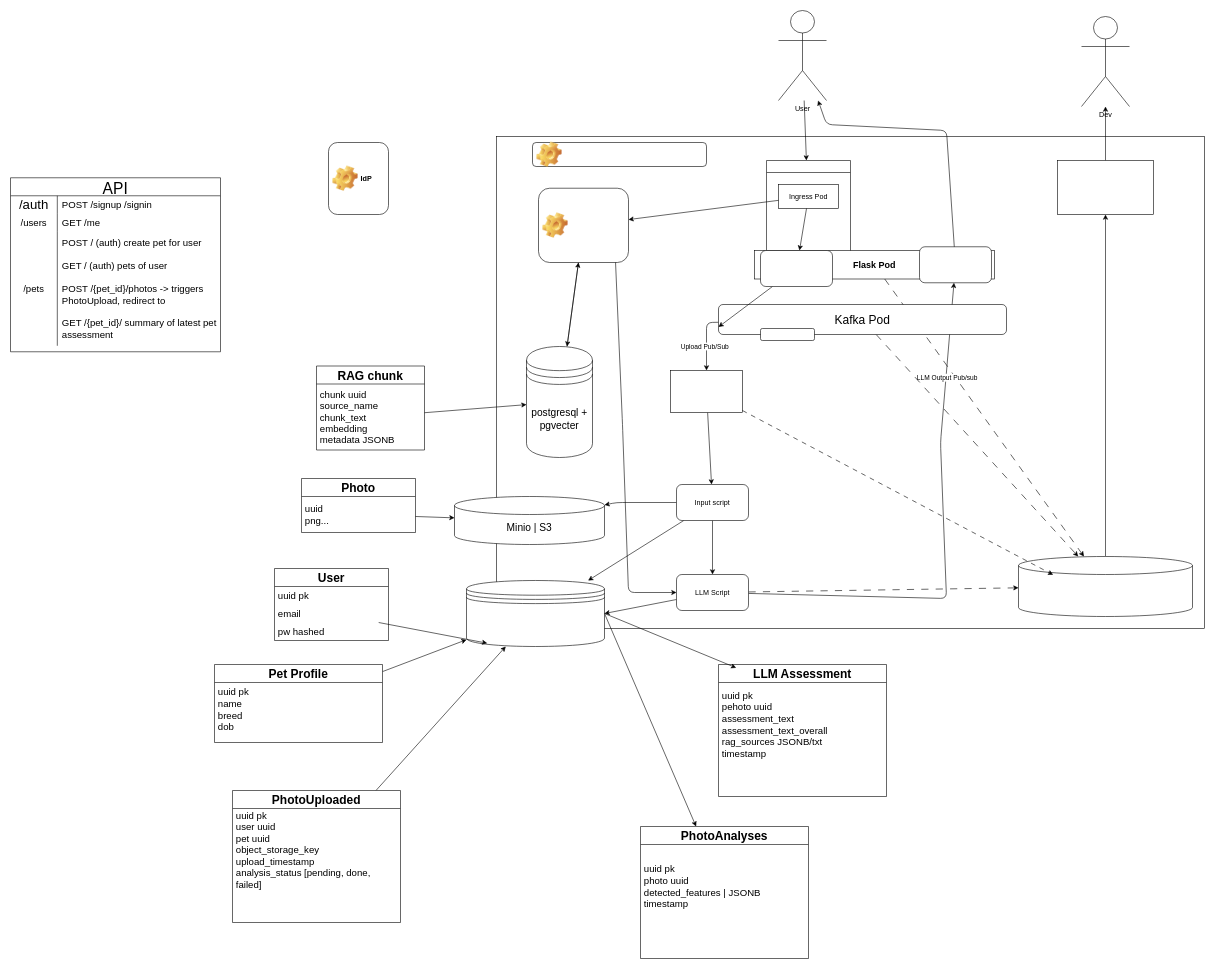
This 1215x969 diagram has some shape labels left out. The shapes that lost their labels are listed below. From the top down, each one's centre as x and y in pixels, then its label:
the point at 619,154: Cluster K8s | Minikube
the point at 1105,187: Grafana Pod
the point at 583,225: Ollama | Gemma3 Vision 12B
the point at 796,268: Upload Page
the point at 955,264: Output Page
the point at 787,334: Enrich
the point at 706,391: FastAPI Pod
the point at 1105,586: Prometheus Server + DB
the point at 535,613: PostgresQL | User data, Photo meta
